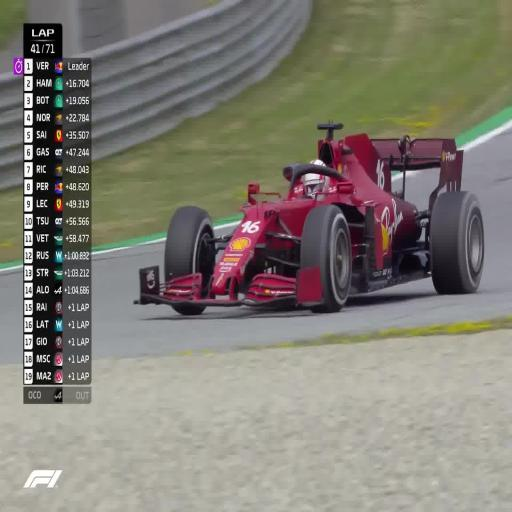f1_car: (135, 123, 483, 314)
